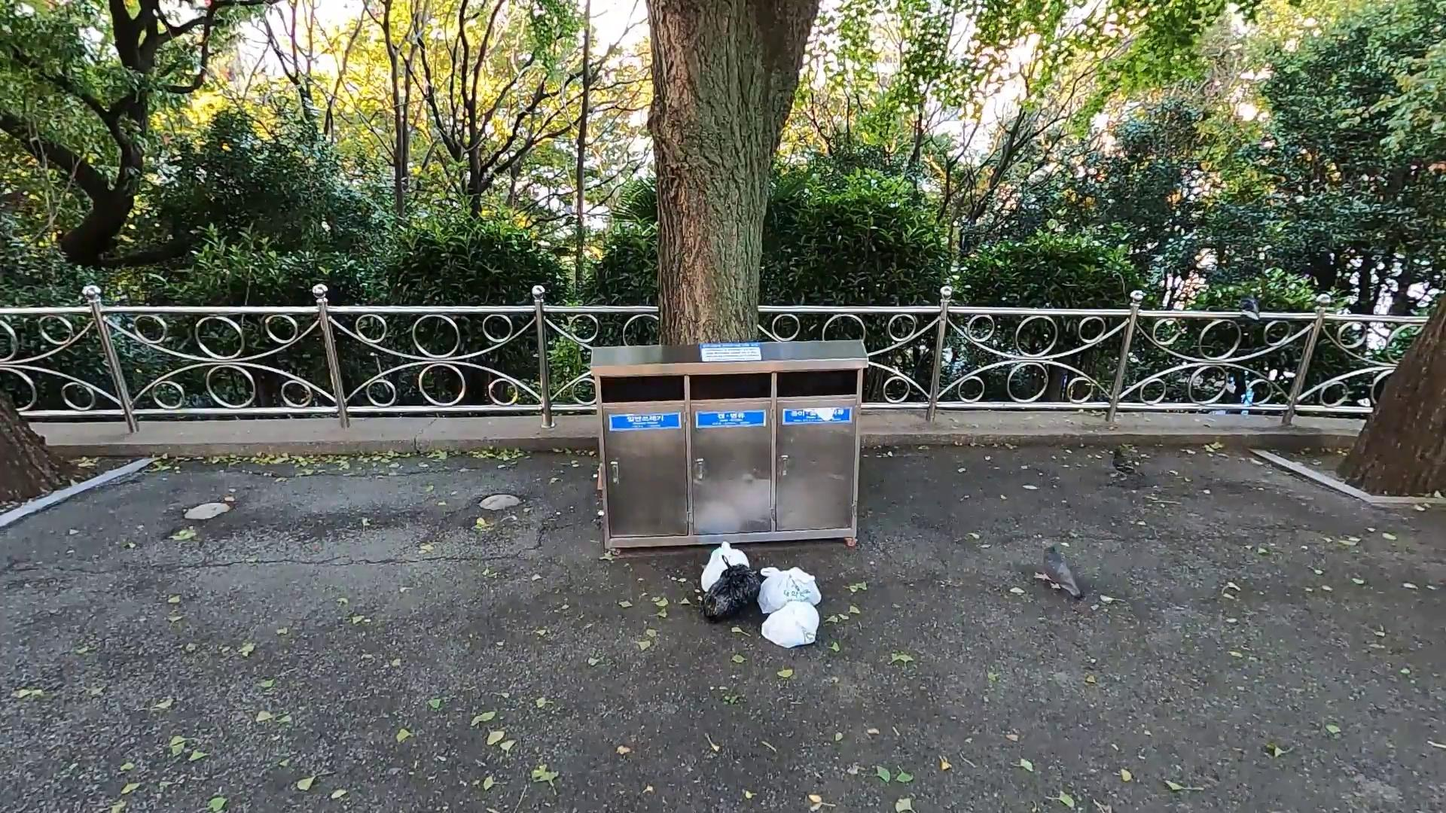trash: (699, 561, 766, 621), (757, 598, 824, 652), (755, 563, 823, 616), (703, 544, 750, 596)
